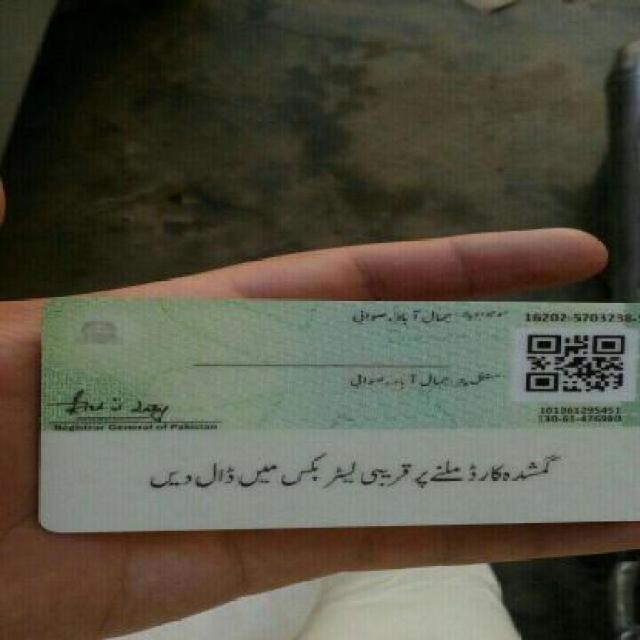Back: (23, 292, 639, 523)
